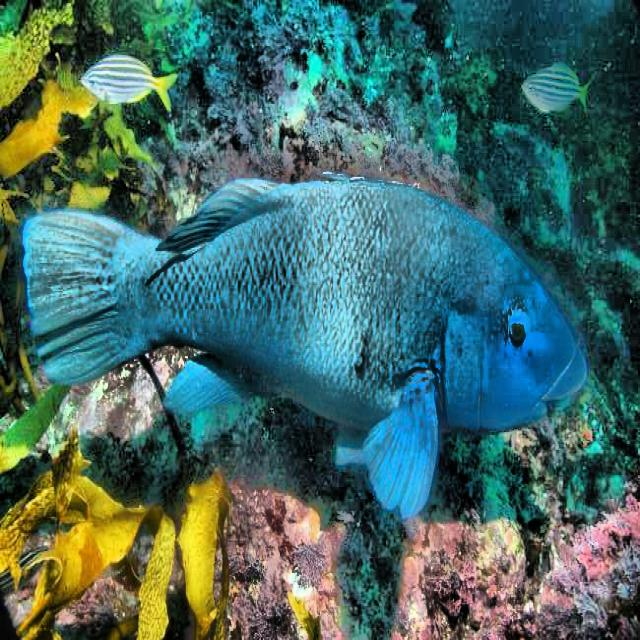fish: (23, 174, 584, 519), (82, 54, 178, 112), (520, 62, 594, 120)
